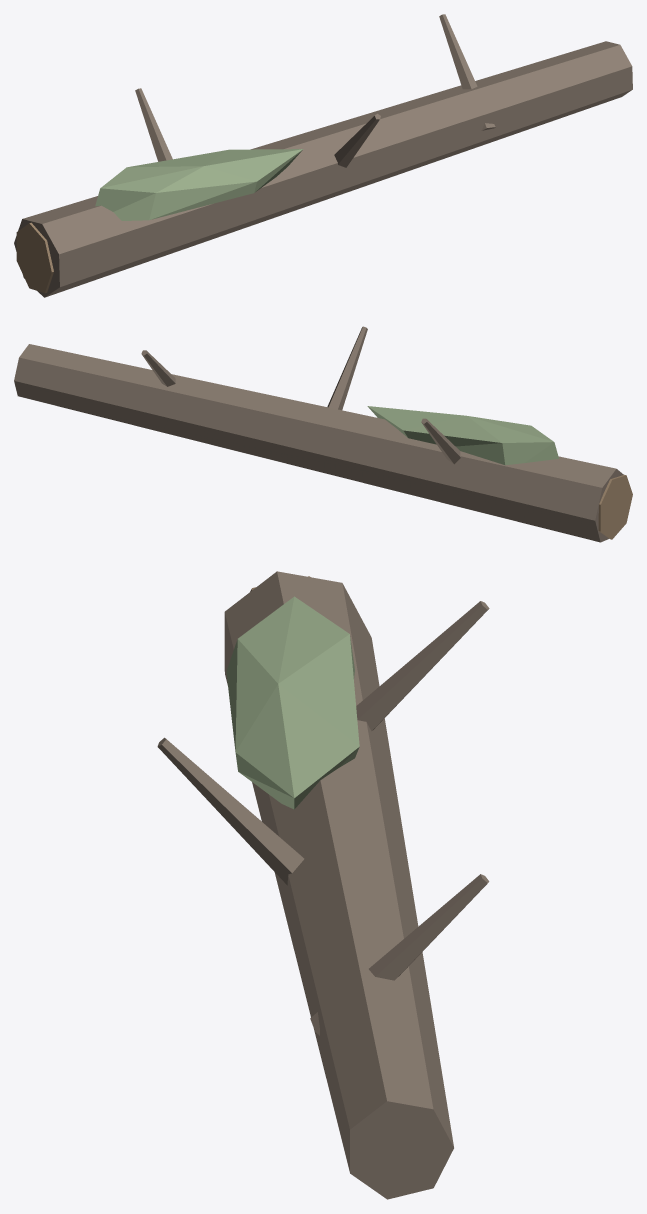
3 views of the same model, one above another, from view 1: azimuth 30°, elevation 25°; view 2: azimuth 150°, elevation 25°; view 3: azimuth 270°, elevation 25° (orthographic). The views are drawn at different scales.
Bounding box in the file's own units: 8.09 × 1.66 × 2.06.
